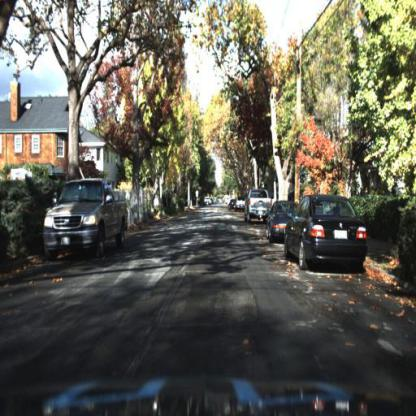car: (44, 179, 130, 268), (286, 193, 365, 267), (266, 202, 300, 247), (265, 191, 286, 244), (245, 187, 272, 226), (247, 187, 270, 230), (229, 199, 237, 213)
